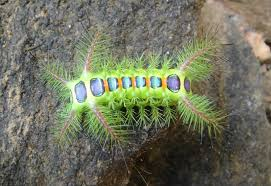Pest! (nettle_caterpillar): (43, 57, 225, 121)
